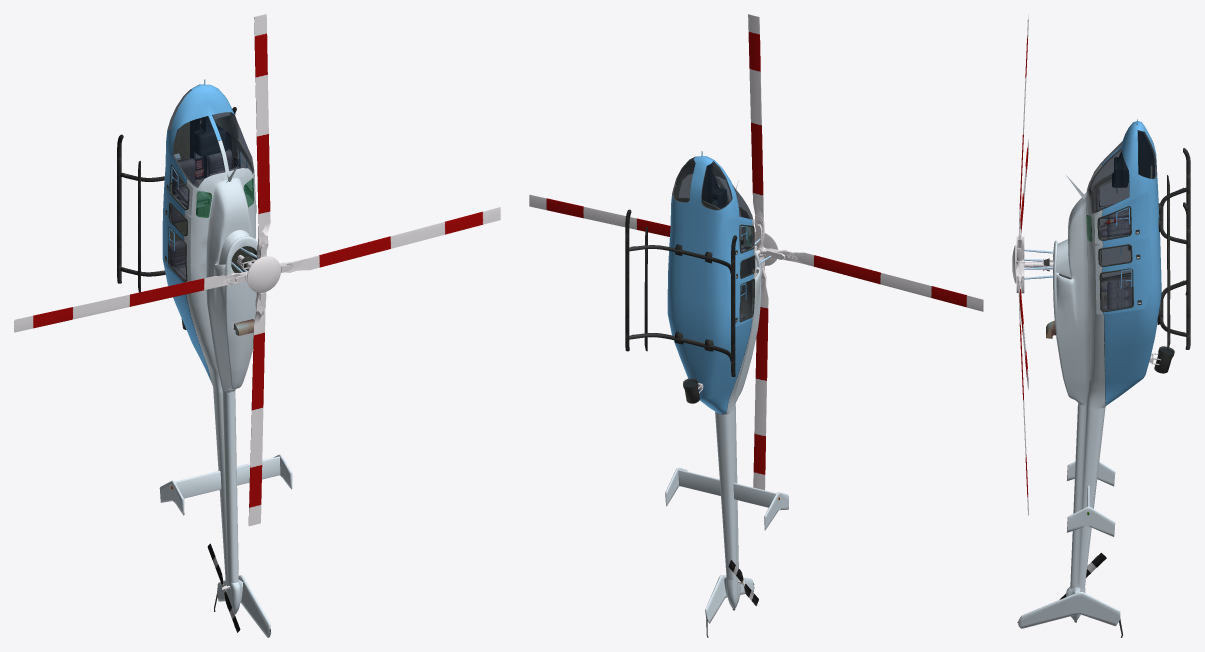
File: bell407.obj
The picture shows the model from 3 angles, left to right: view 1: azimuth 30°, elevation 25°; view 2: azimuth 150°, elevation 25°; view 3: azimuth 270°, elevation 25°; orthographic projection. The views are drawn at different scales.
Visible parts, largest first — view 1: fuselage, main_rotor, door1, door3, door2; view 2: fuselage, main_rotor, door1, door3; view 3: fuselage, door4, main_rotor, door5, door1, door3.
Part boxes in pixels (box(x1,y1,x2,y2)): fuselage: box(117, 79, 292, 637); main_rotor: box(14, 14, 500, 526); door1: box(162, 213, 190, 282); door3: box(164, 146, 192, 215); door2: box(163, 188, 191, 241); fuselage: box(625, 151, 788, 637); main_rotor: box(529, 14, 983, 490); door1: box(727, 274, 754, 326); door3: box(727, 218, 754, 259); fuselage: box(1017, 119, 1190, 637); door4: box(1095, 260, 1151, 314); main_rotor: box(1012, 14, 1053, 515); door5: box(1094, 193, 1150, 243); door1: box(1100, 237, 1131, 282); door3: box(1095, 177, 1129, 212).
Bounding box in the file's own units: 10.5 × 13.05 × 3.41.
